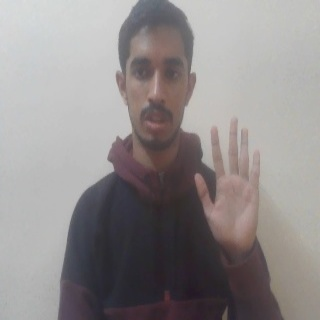Face: (113, 1, 199, 154)
Hello: (192, 114, 263, 255)
